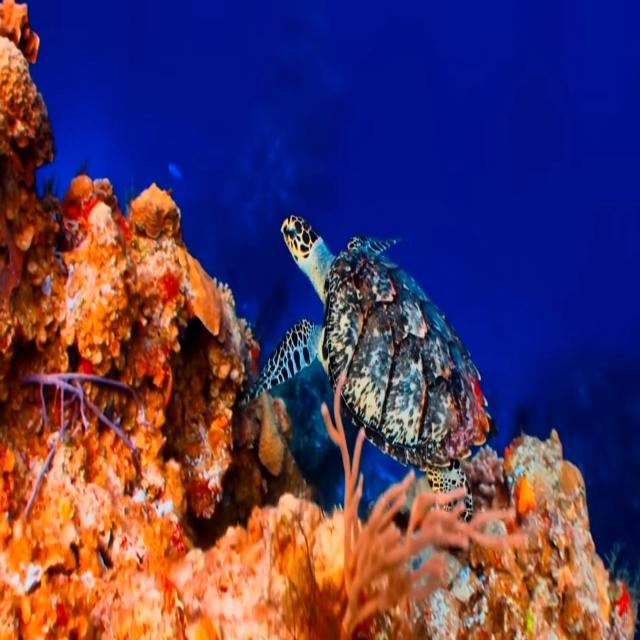Sea turtle: (235, 209, 493, 529)
